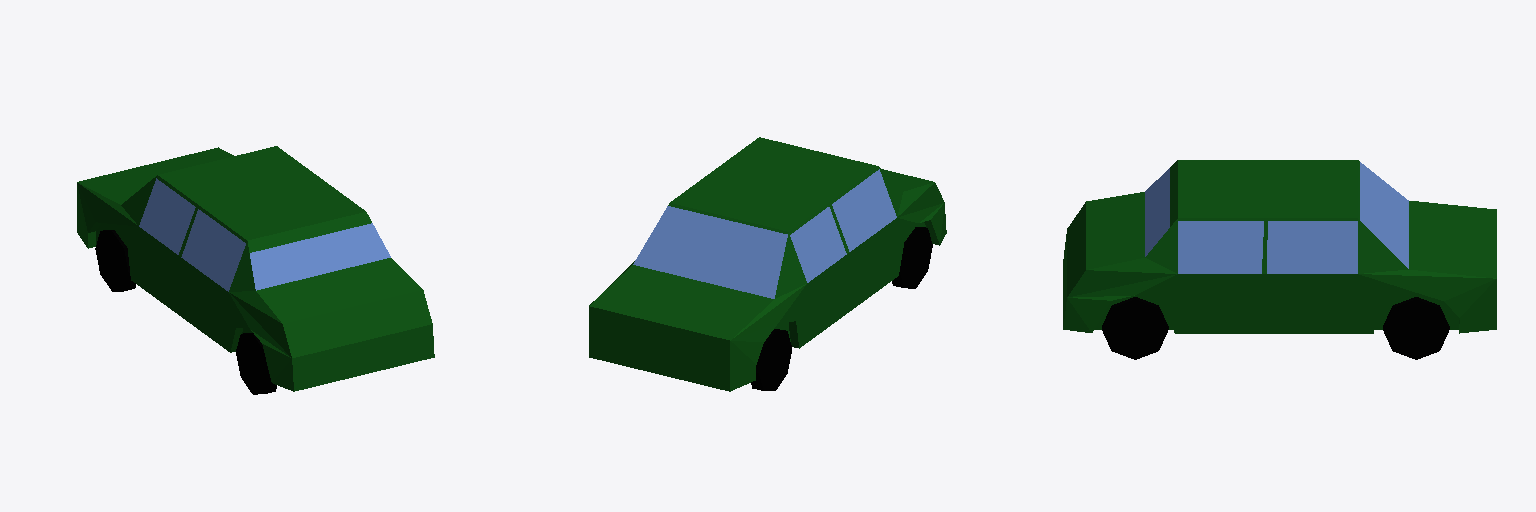
File: Car_Green.obj
The picture shows the model from 3 angles: view 1: azimuth 30°, elevation 25°; view 2: azimuth 150°, elevation 25°; view 3: azimuth 270°, elevation 25°; orthographic projection.
Visible parts, largest first — view 1: Cube; view 2: Cube; view 3: Cube.
Part boxes in pixels (left/top/right/bottom): Cube: left=77, top=146, right=434, bottom=394; Cube: left=589, top=137, right=946, bottom=391; Cube: left=1063, top=160, right=1496, bottom=359.
Bounding box in the file's own units: 1.42 × 1.17 × 3.41.